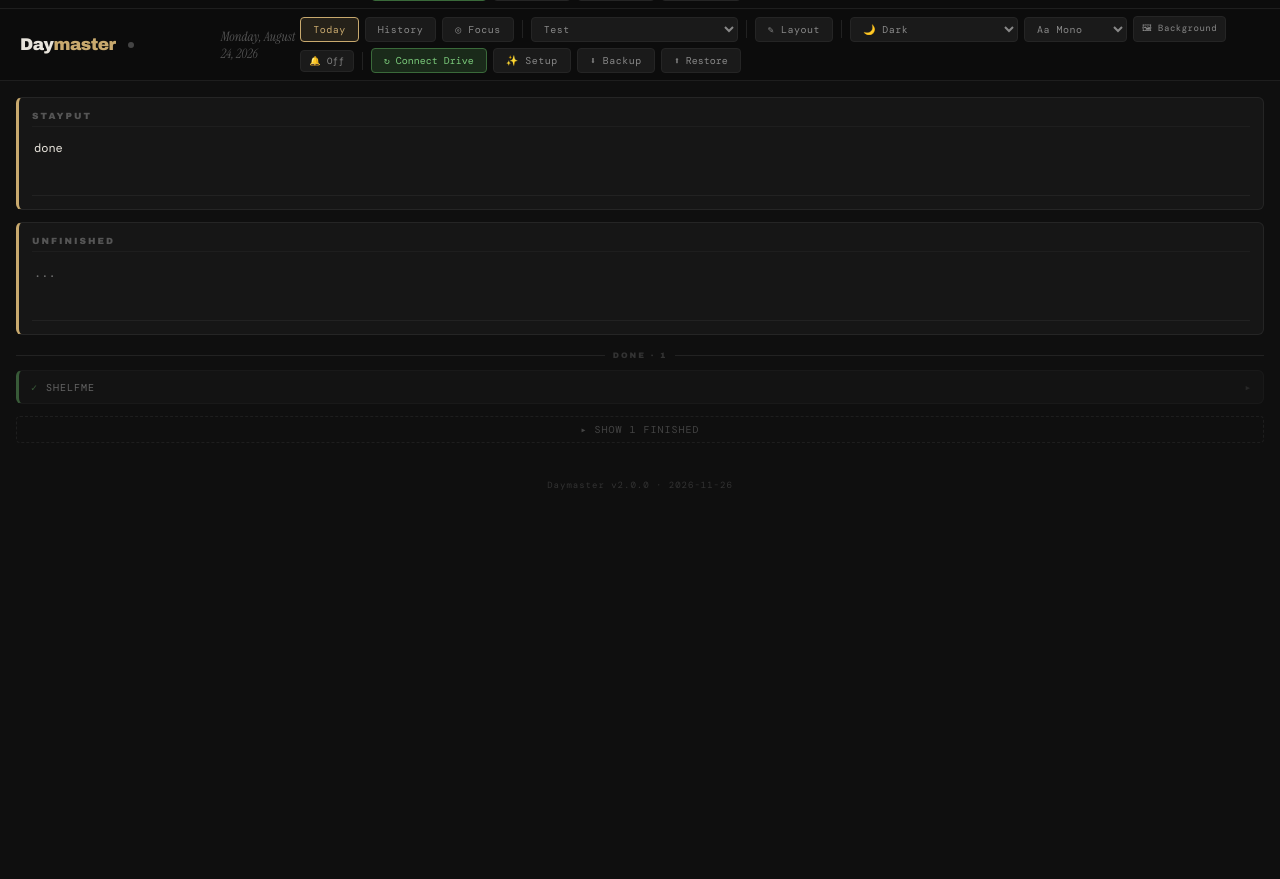
Test case: App — done states (#113) integration › takes a finished 'hide' tile off the board, but keeps it one tap away
(page scrolled)
Expected: the text "HIDEME" is not shown
Click the button "▸ Show 1 finished".
click(640, 430)  # box [16,416,1264,443]
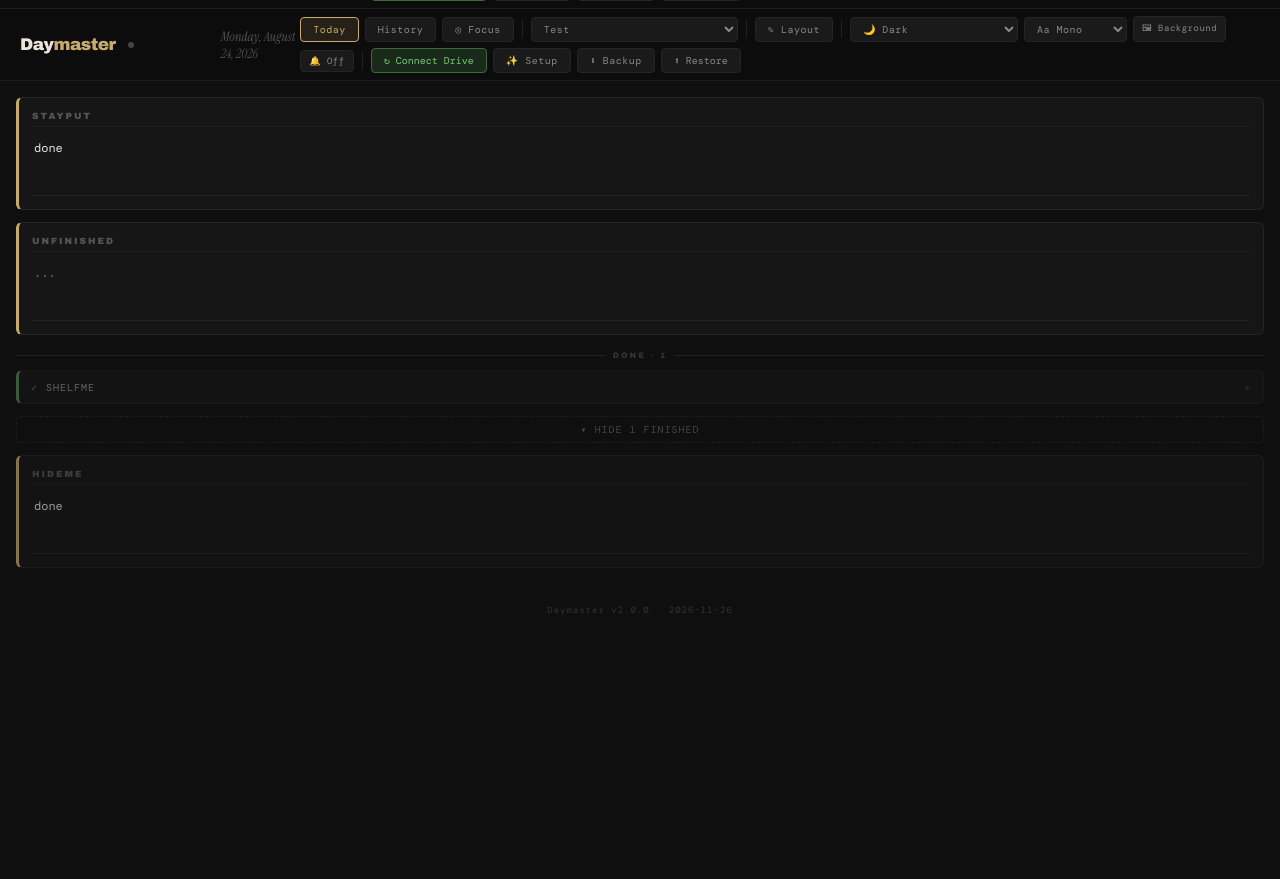
Expected: the text "HIDEME" is shown, [32,469,1250,485]
Click the button "▾ Hide 1 finished".
click(640, 430)  # box [16,416,1264,443]
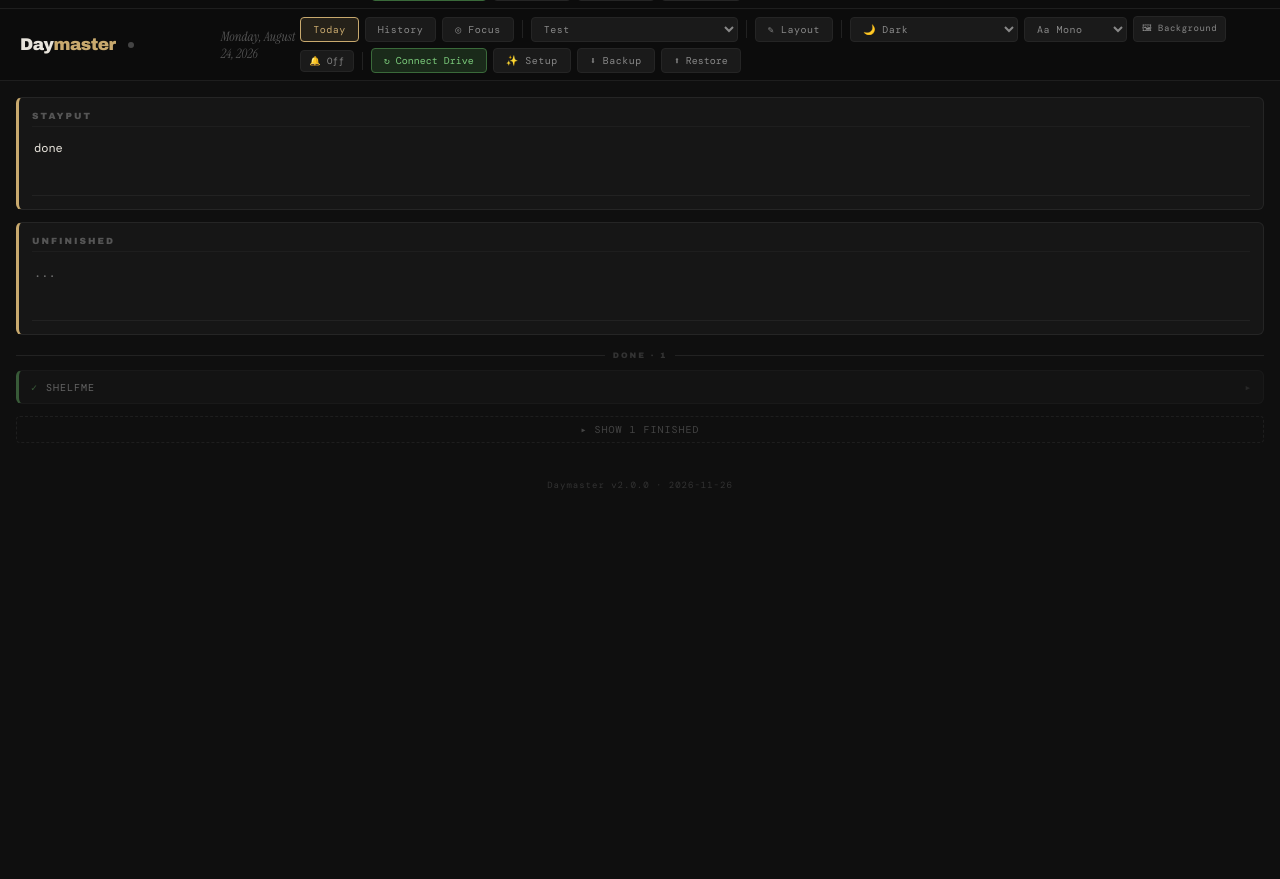
Expected: the text "HIDEME" is gone
